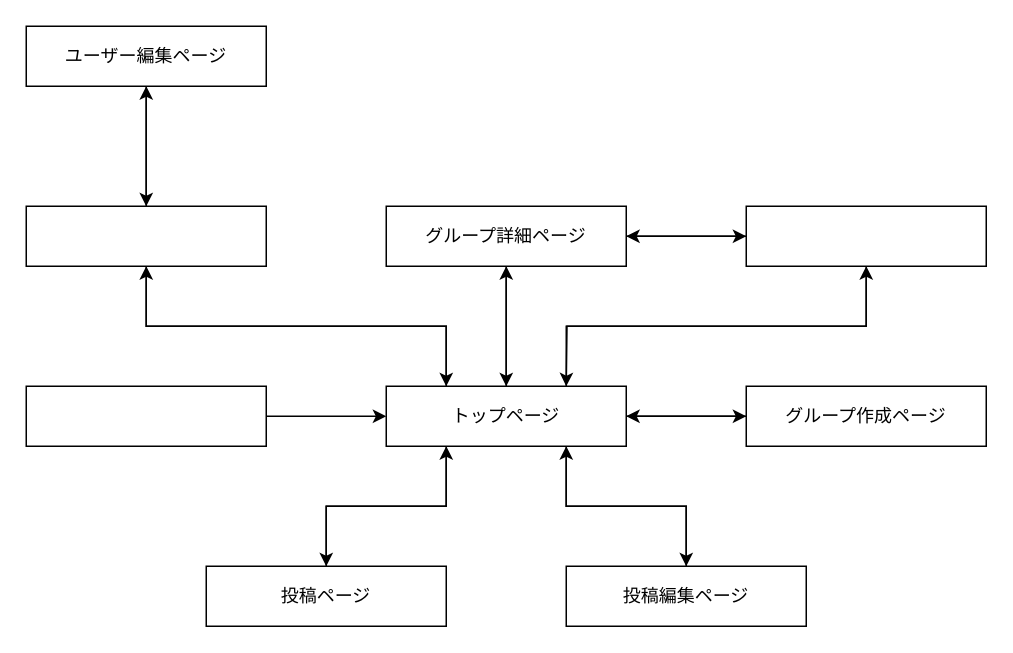
Some shapes in this 1013 by 653 pixel diagram are drawn without their labels. The shapes that lost their labels are listed below. From the top down, each one's centre as x and y in pixels, then its label:
At (145,235): "ユーザー詳細ページ".
At (865,235): "グループ一覧ページ".
At (145,415): "サインイン・ログインページ".
